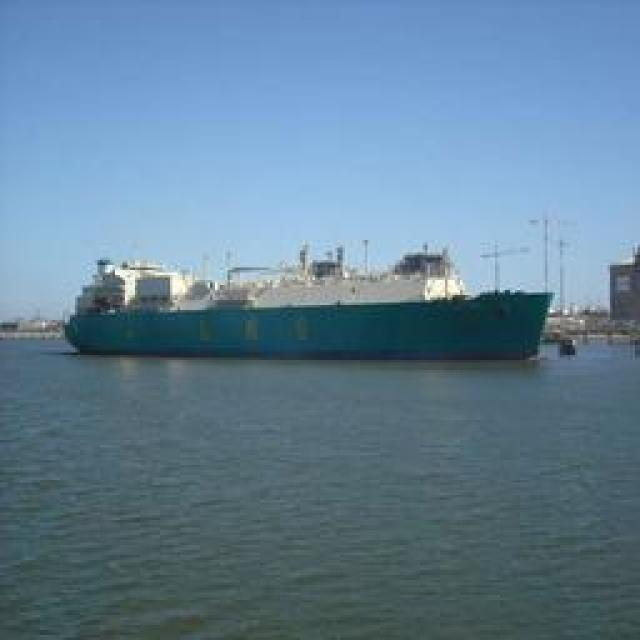CIV_Ship: (66, 274, 556, 362)
